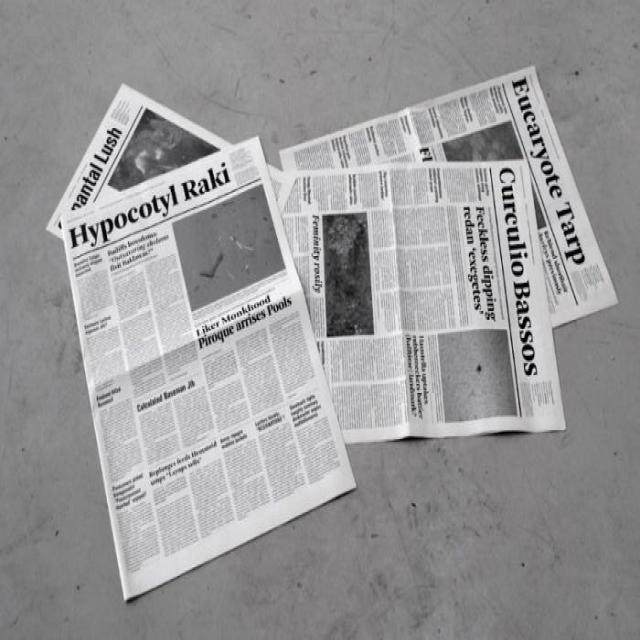paper: (44, 60, 622, 604)
